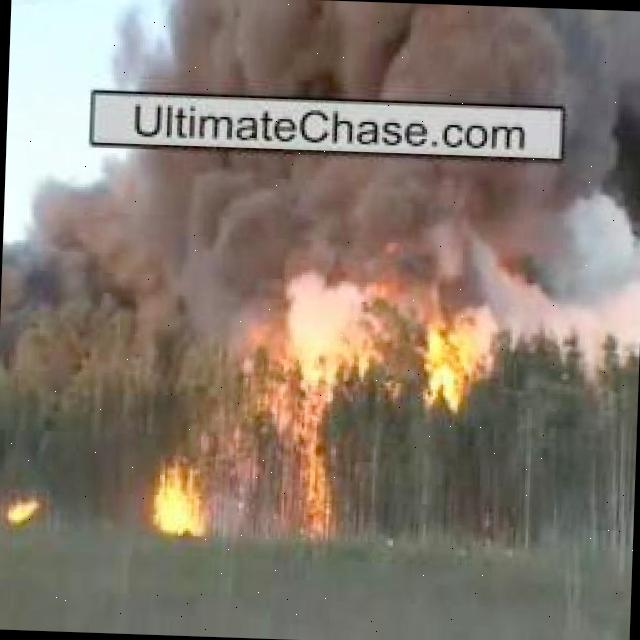fire: (284, 397, 346, 539), (419, 314, 484, 412), (150, 458, 221, 536), (8, 497, 42, 532)
